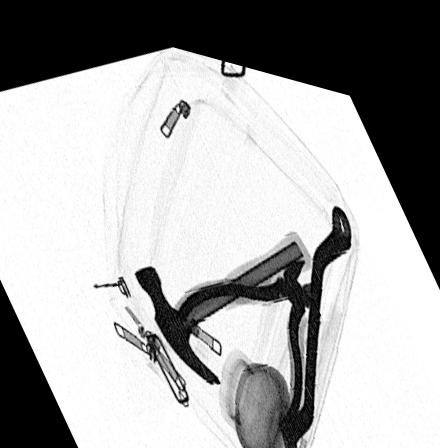Hammer: (135, 213, 316, 372)
Pliers: (176, 245, 326, 422)
Wrench: (278, 184, 351, 448)
